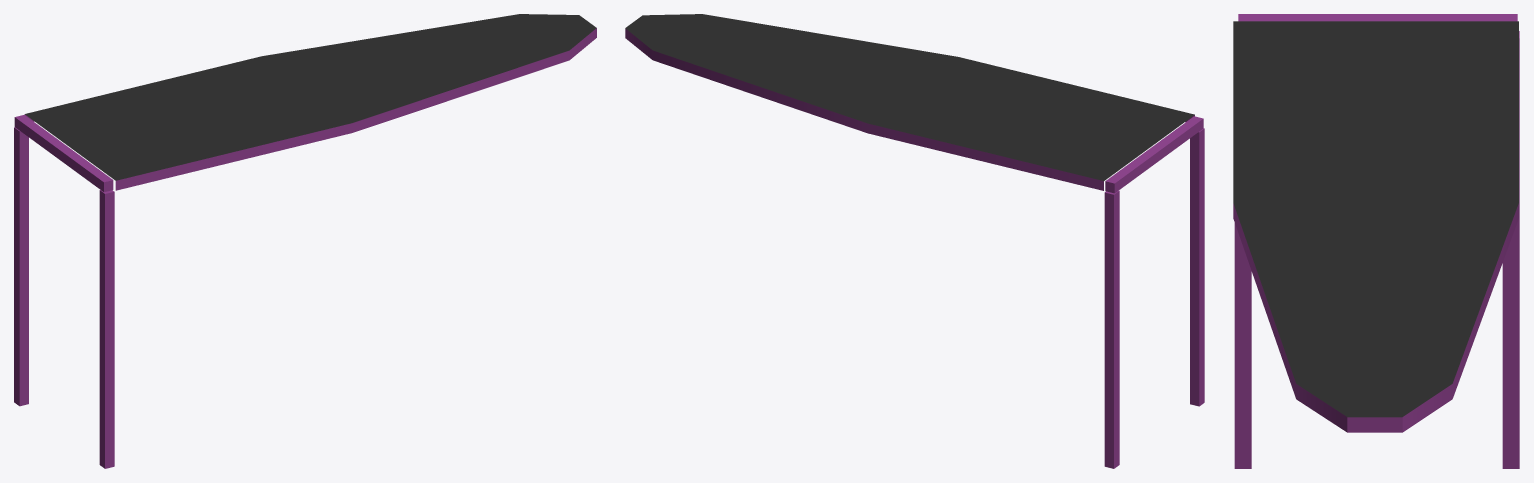
File: planche a repasser.FBX
3 views of the same model, side by side, from view 1: azimuth 30°, elevation 25°; view 2: azimuth 150°, elevation 25°; view 3: azimuth 270°, elevation 25° (orthographic). The views are drawn at different scales.
Visible parts, largest first — view 1: planche a repasser; view 2: planche a repasser; view 3: planche a repasser.
Boxes of the visible parts, x1=… form: planche a repasser: x1=14, y1=14, x2=596, y2=468; planche a repasser: x1=625, y1=14, x2=1204, y2=468; planche a repasser: x1=1233, y1=14, x2=1519, y2=468.
Size of the model in its own units: 167 by 86.49 by 50.12.
